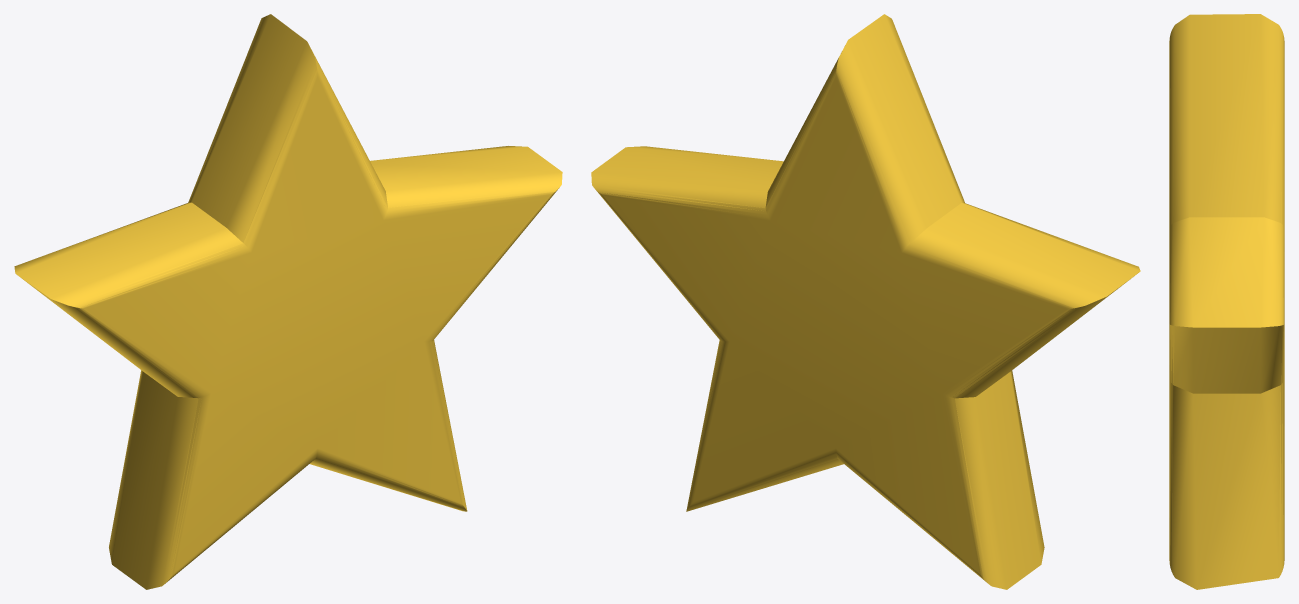
The model's file is star.glb.
The picture shows the model from 3 angles, left to right: view 1: azimuth 30°, elevation 25°; view 2: azimuth 150°, elevation 25°; view 3: azimuth 270°, elevation 25°; orthographic projection. The views are drawn at different scales.
Visible parts, largest first — view 1: star; view 2: star; view 3: star.
Boxes of the visible parts, bbox=[...] form: star: bbox=[14, 14, 562, 589]; star: bbox=[591, 14, 1140, 589]; star: bbox=[1169, 14, 1284, 589].
Bounding box in the file's own units: 2.12 × 2.01 × 0.4201.
